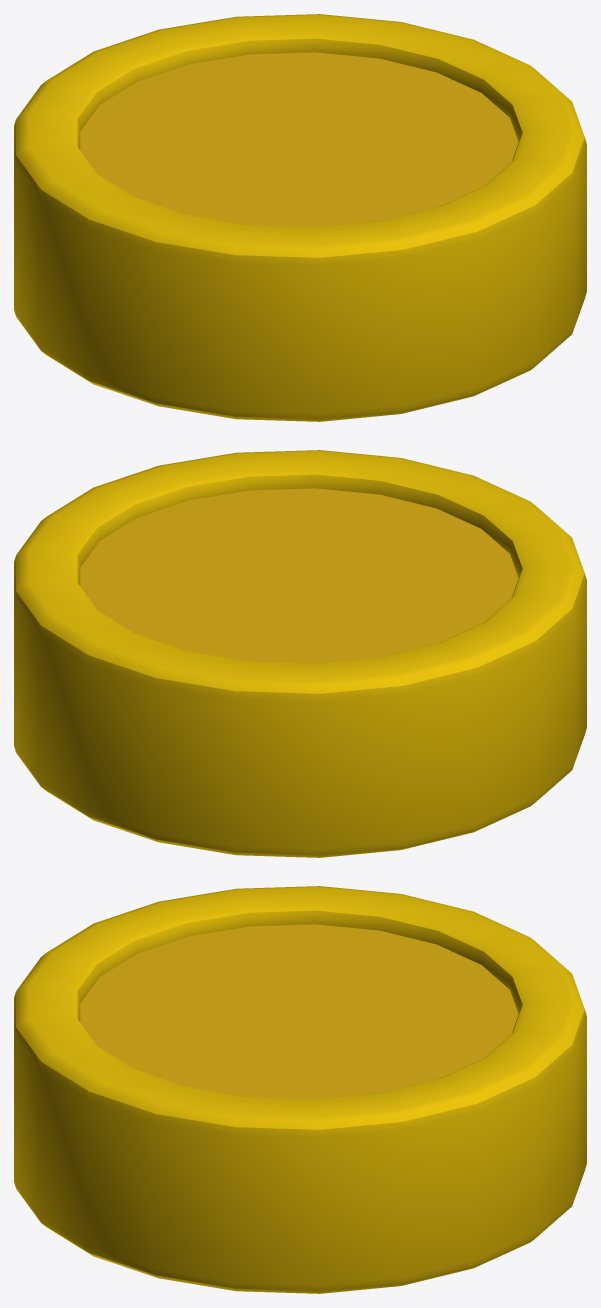
File: coin.fbx
The picture shows the model from 3 angles, top to bottom: view 1: azimuth 30°, elevation 25°; view 2: azimuth 150°, elevation 25°; view 3: azimuth 270°, elevation 25°; orthographic projection.
Parts seen in each view (by area): view 1: Cylinder; view 2: Cylinder; view 3: Cylinder.
Part boxes in pixels (<box>): Cylinder: <box>14,14,586,421</box>; Cylinder: <box>14,450,586,857</box>; Cylinder: <box>14,886,586,1293</box>.
Size of the model in its own units: 0.5057 by 0.1702 by 0.5043.
